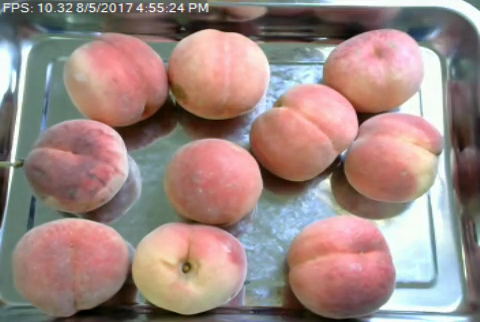Peach: (12, 216, 129, 316), (286, 215, 396, 319), (134, 221, 246, 316), (250, 83, 358, 181), (24, 118, 129, 213), (64, 32, 168, 127), (168, 26, 269, 120), (341, 112, 443, 203), (322, 25, 423, 115), (163, 138, 263, 225)
